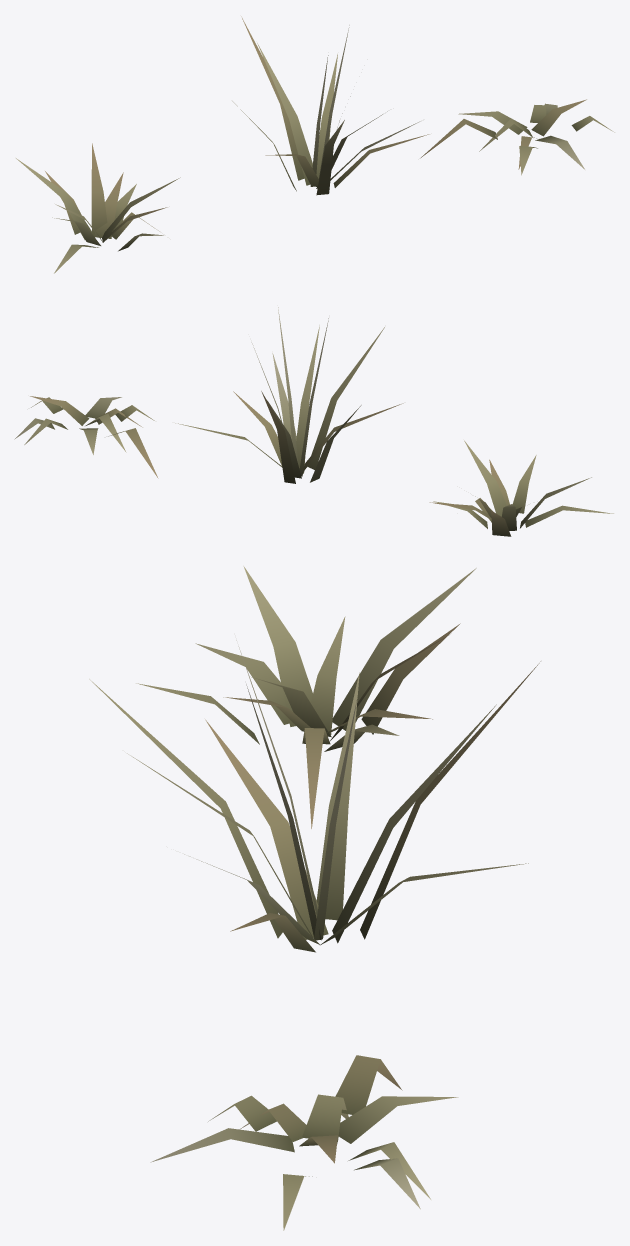
Rendered from grass_tufts.glb.
3 renders of one model, top to bottom at view 1: azimuth 30°, elevation 25°; view 2: azimuth 150°, elevation 25°; view 3: azimuth 270°, elevation 25°, orthographic. The views are drawn at different scales.
Visible parts, largest first — view 1: tuft_b, tuft_a, tuft_c; view 2: tuft_b, tuft_a, tuft_c; view 3: tuft_b, tuft_a, tuft_c.
Part boxes in pixels (x1=…): tuft_b: x1=232, y1=16, x2=429, y2=195; tuft_a: x1=16, y1=143, x2=180, y2=273; tuft_c: x1=420, y1=99, x2=614, y2=175; tuft_b: x1=175, y1=307, x2=403, y2=483; tuft_a: x1=429, y1=440, x2=613, y2=536; tuft_c: x1=14, y1=396, x2=158, y2=478; tuft_b: x1=89, y1=640, x2=540, y2=952; tuft_a: x1=136, y1=566, x2=476, y2=828; tuft_c: x1=150, y1=1055, x2=458, y2=1230.
Bounding box in the file's own units: 3.24 × 0.9128 × 1.13.
